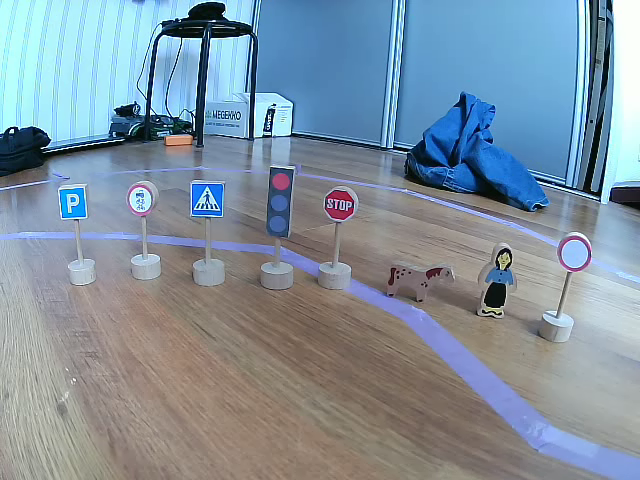fietspad: (127, 183, 154, 215)
mens: (477, 244, 517, 314)
paard: (388, 265, 457, 296)
parkeerbord: (58, 184, 89, 220)
roodlicht: (265, 166, 295, 236)
stopbord: (323, 189, 356, 222)
wegdicht: (558, 233, 592, 271)
zebrapad: (188, 180, 226, 216)
